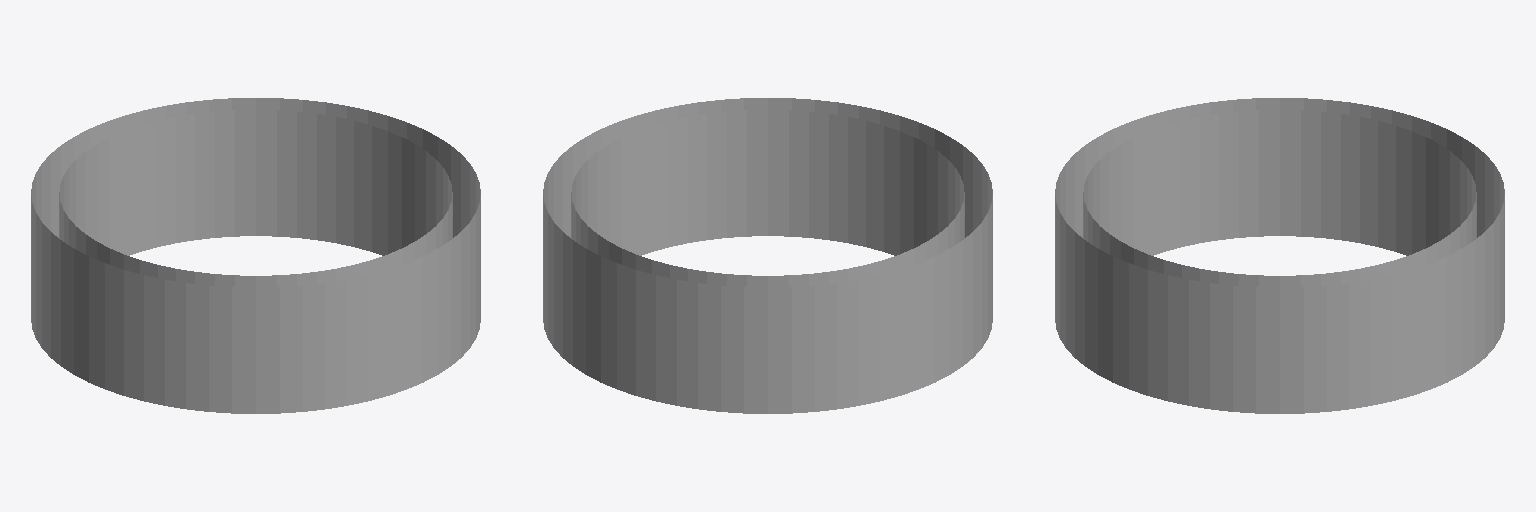
Rendered from cylinderInterLight.obj.
3 renders of one model, left to right at view 1: azimuth 30°, elevation 25°; view 2: azimuth 150°, elevation 25°; view 3: azimuth 270°, elevation 25°, orthographic.
Visible parts, largest first — view 1: polySurface3; view 2: polySurface3; view 3: polySurface3.
Boxes of the visible parts, box(x1,y1,x2,y2) form: polySurface3: box(31, 98, 480, 413); polySurface3: box(543, 98, 992, 413); polySurface3: box(1055, 98, 1504, 413).
Bounding box in the file's own units: 1.01 × 0.3146 × 1.01.